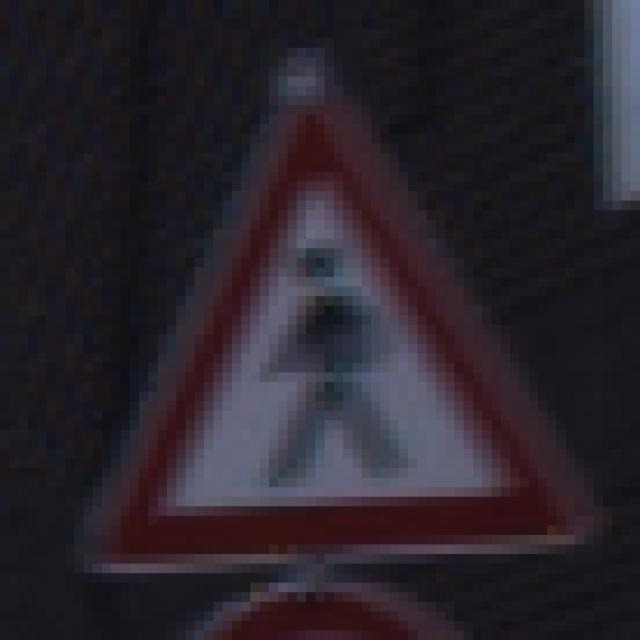pedestrian crossing: (73, 102, 588, 560)
